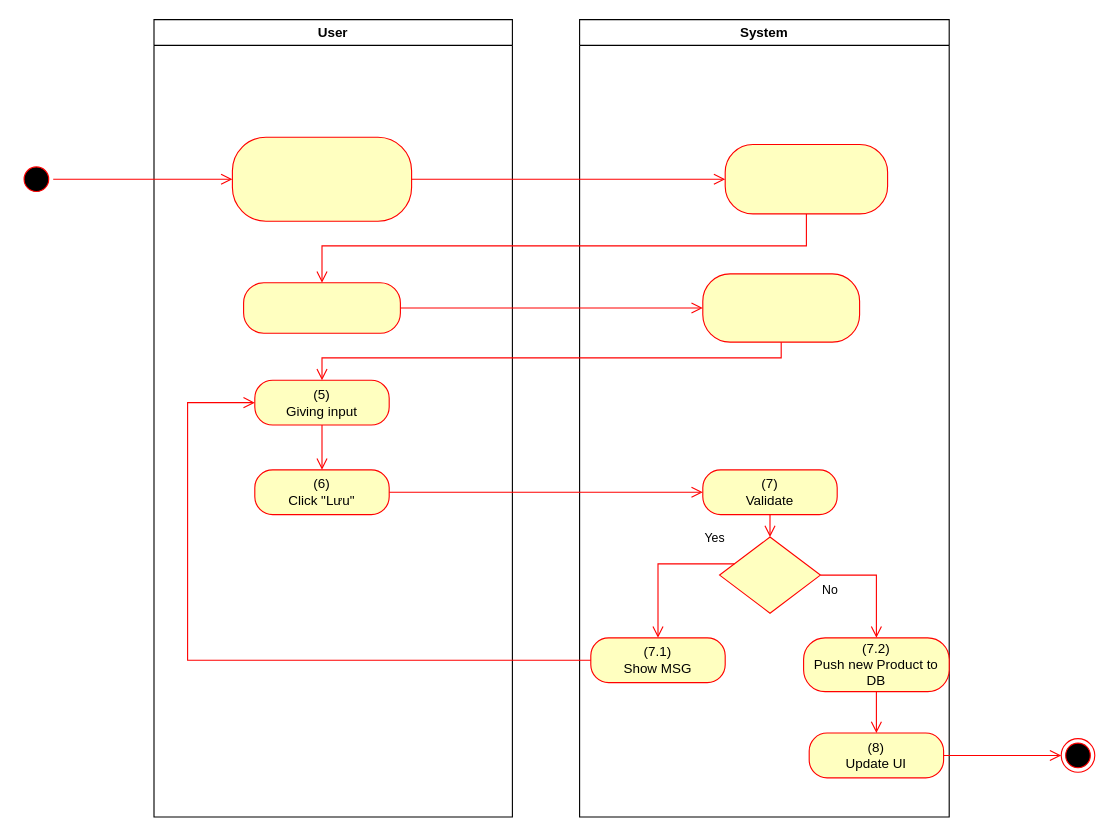
The diagram is 1114 pixels wide and 837 high, and some of its shapes have lost their labels. Each missing label, with the centre of its shape:
(1) On "left menu" click " Product Management – List Product ": pixel 321 178
(2) Load " List Product (Seller) " Screen: pixel 806 178
(3) Click button "Thêm hàng hóa": pixel 321 307
(4) Load " CRUD Product ": pixel 781 307
